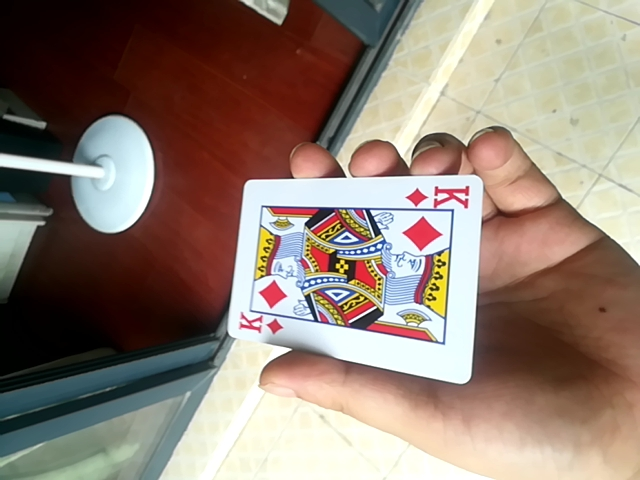fk k: (229, 169, 483, 381)
